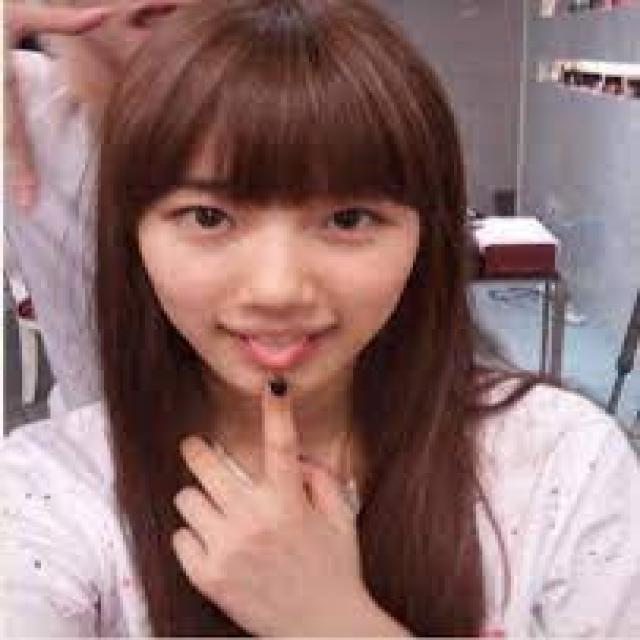tongue: (240, 336, 312, 369)
